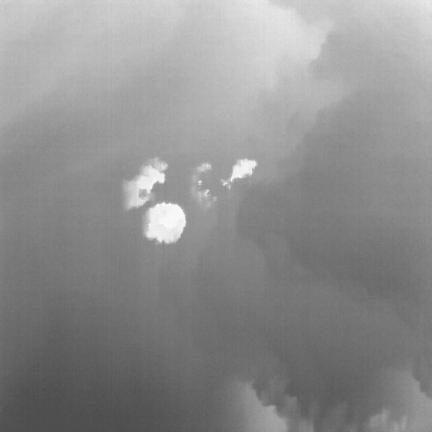flukeprints: (124, 158, 167, 209), (143, 202, 186, 244), (223, 159, 256, 184)
